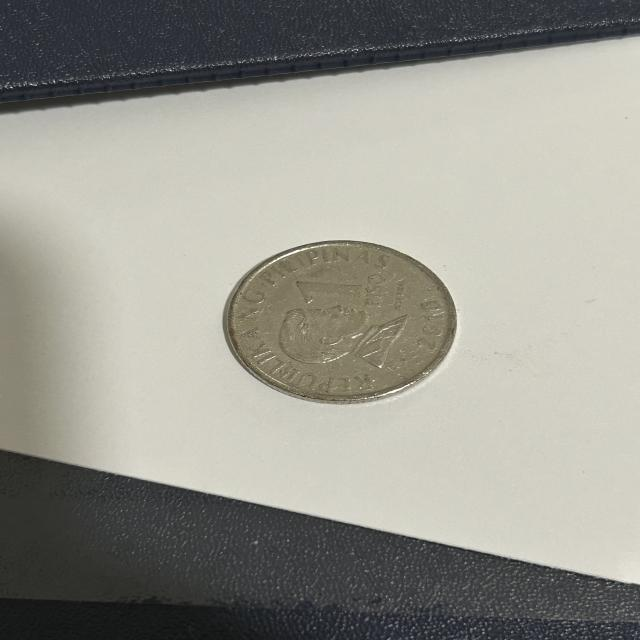1_Old_Front: (295, 270, 393, 317)
